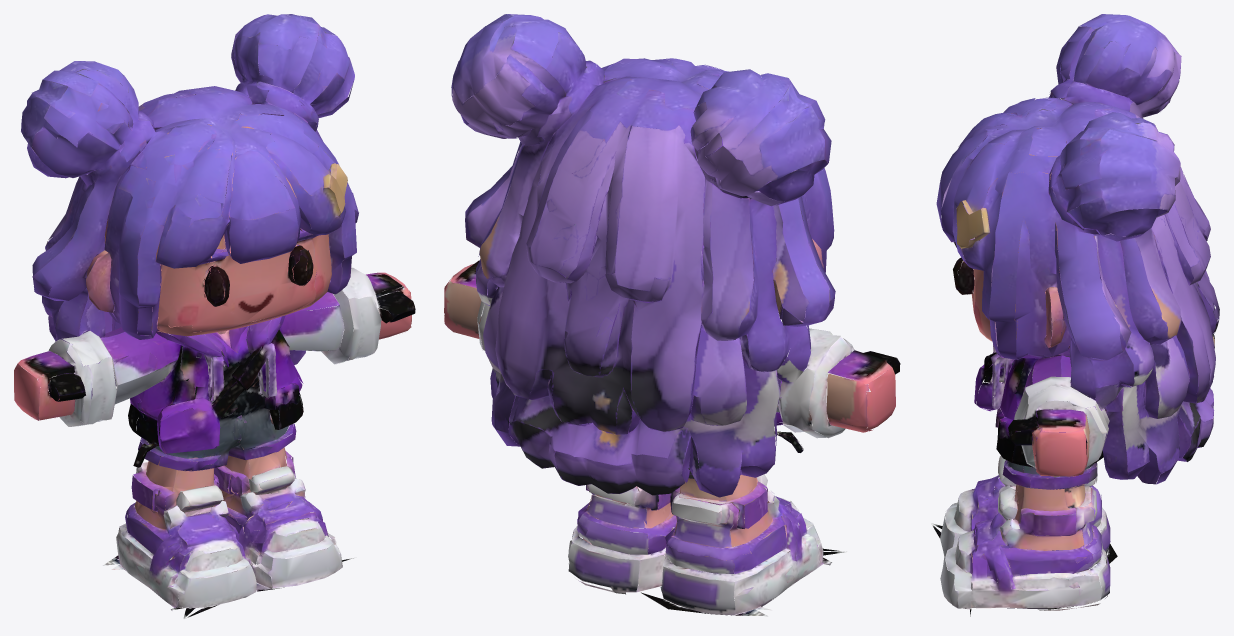
File: luna_trellis_v1.glb
The picture shows the model from 3 angles, left to right: view 1: azimuth 30°, elevation 25°; view 2: azimuth 150°, elevation 25°; view 3: azimuth 270°, elevation 25°; orthographic projection. The views are drawn at different scales.
Parts seen in each view (by area): view 1: Body; view 2: Body; view 3: Body.
Boxes of the visible parts, <box> form: Body: <box>14,14,415,618</box>; Body: <box>444,14,900,616</box>; Body: <box>931,14,1219,616</box>.
Bounding box in the file's own units: 0.5816 × 0.72 × 0.3777.
1 material, 1 textured.
